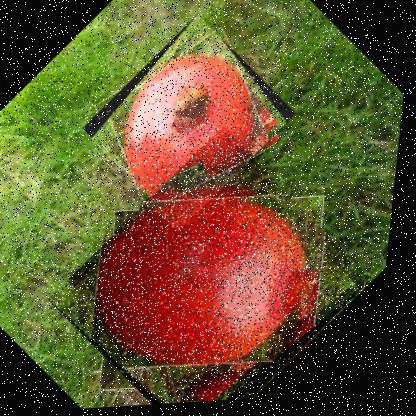pomegranate: (44, 123, 392, 411), (73, 13, 307, 240)
